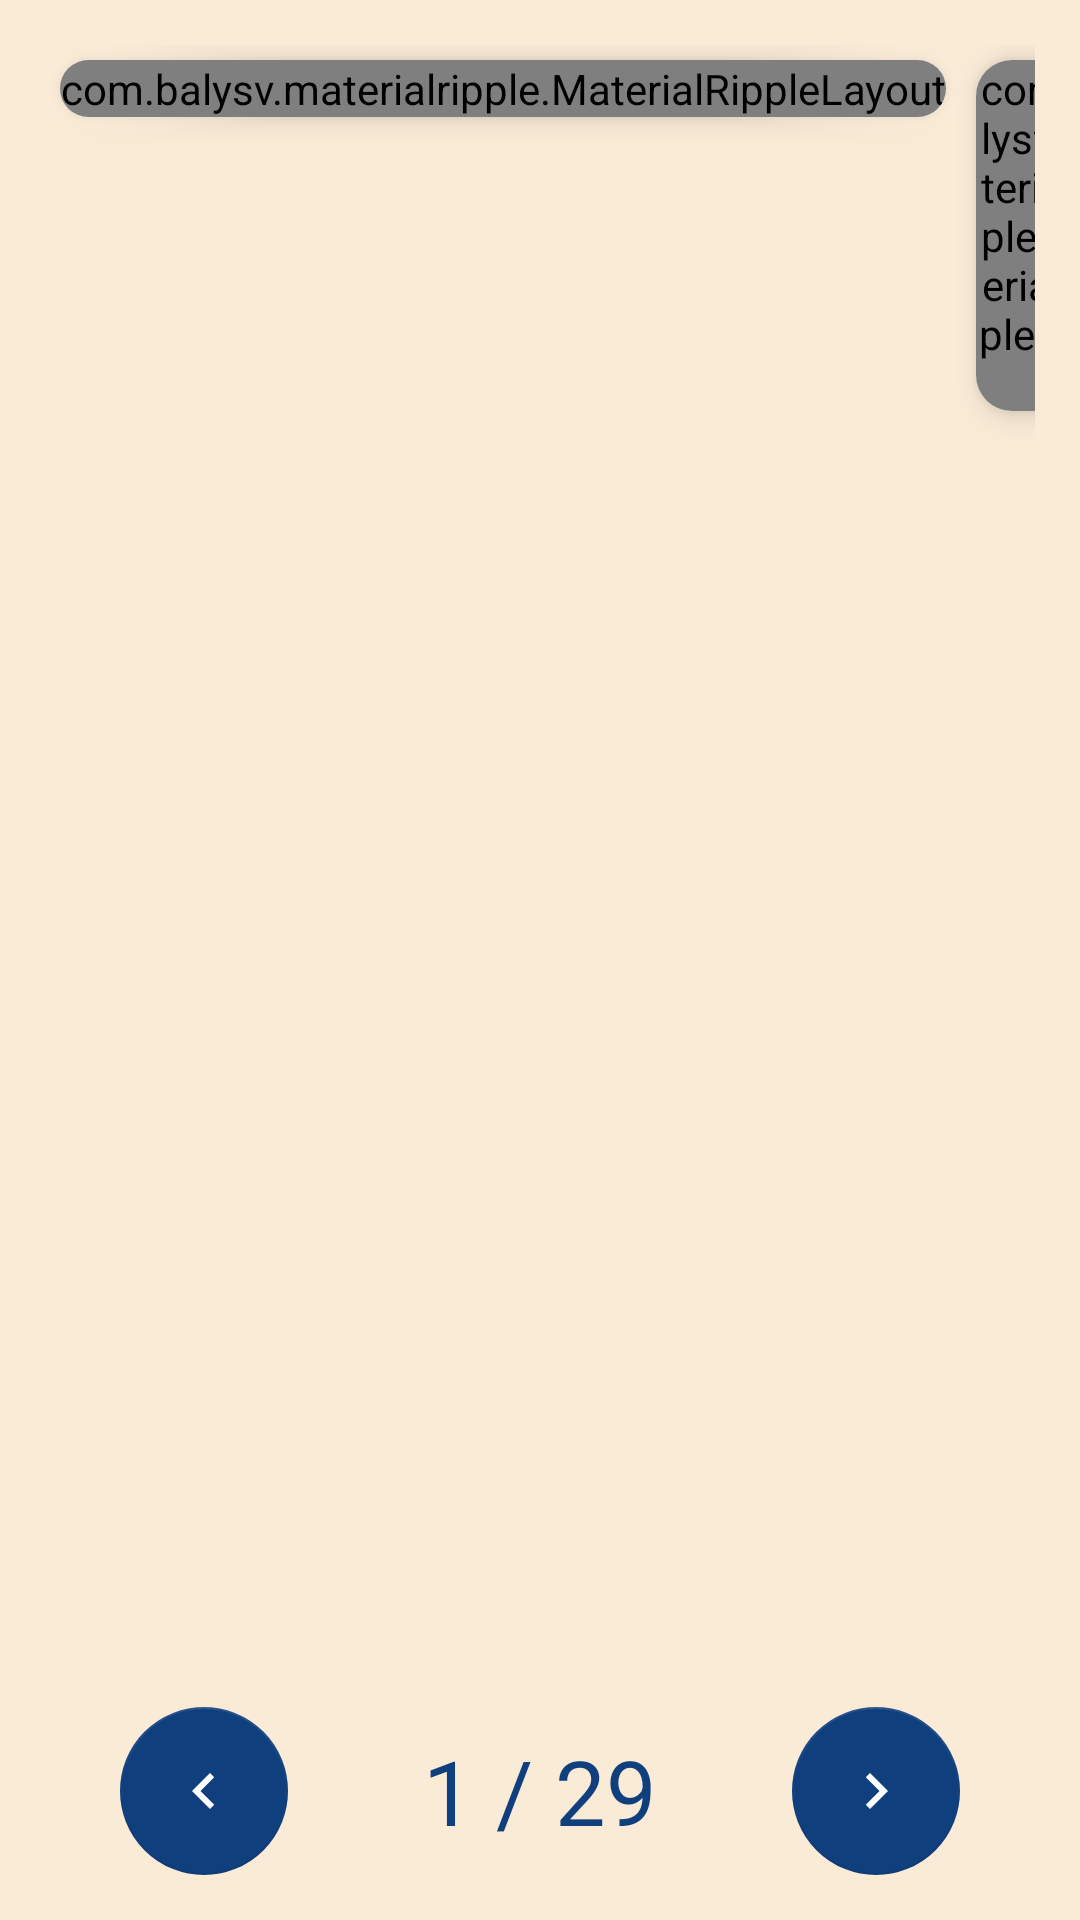

Where to tap for icons on this 1080px x 1920px app screen, as (x=x, y=y):
navigate before: (x=204, y=1791)
navigate next: (x=876, y=1791)
